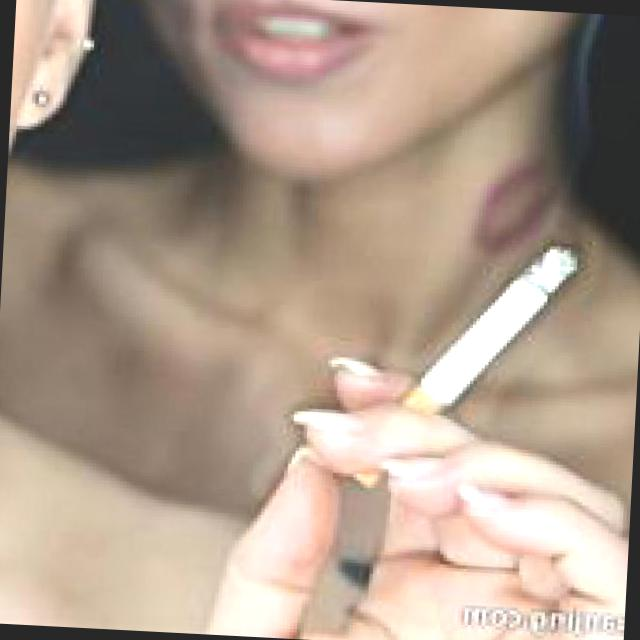smoke: (356, 220, 593, 495)
